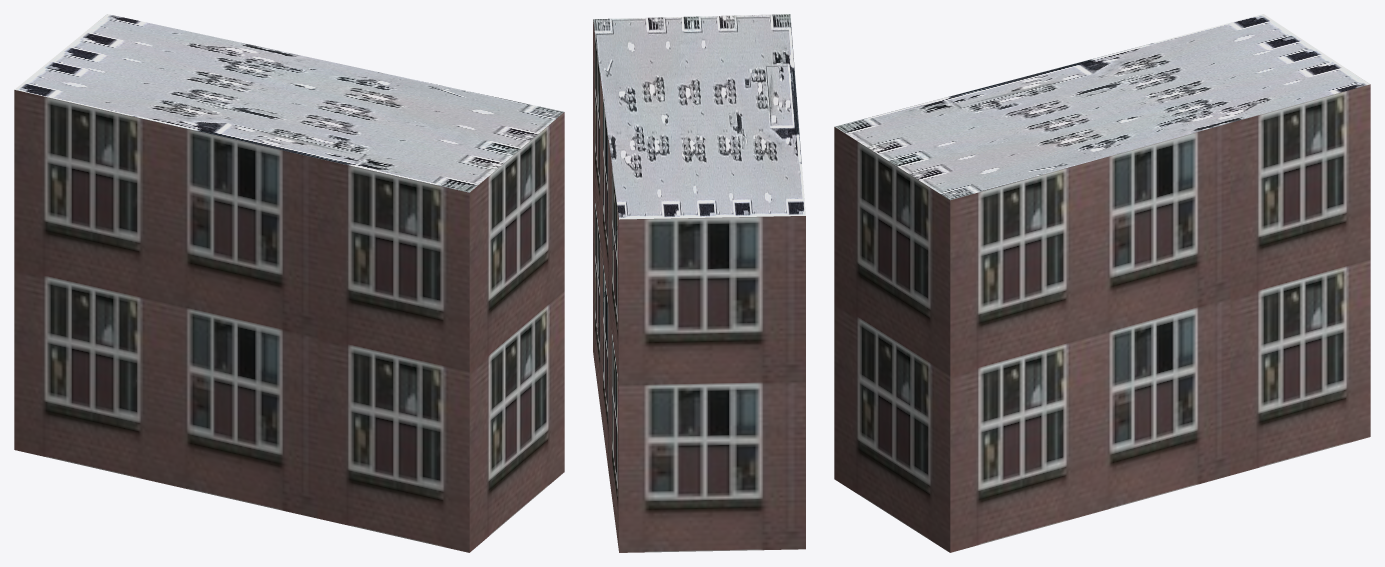
File: ResTex__1505.fbx
The picture shows the model from 3 angles, left to right: view 1: azimuth 30°, elevation 25°; view 2: azimuth 150°, elevation 25°; view 3: azimuth 270°, elevation 25°; orthographic projection. The views are drawn at different scales.
Visible parts, largest first — view 1: CityEngineMaterial_12_m, CityEngineMaterial_m; view 2: CityEngineMaterial_12_m, CityEngineMaterial_m; view 3: CityEngineMaterial_12_m, CityEngineMaterial_m.
Part boxes in pixels (bbox=[...]): CityEngineMaterial_12_m: bbox=[14, 90, 564, 552]; CityEngineMaterial_m: bbox=[14, 14, 563, 192]; CityEngineMaterial_12_m: bbox=[593, 19, 805, 552]; CityEngineMaterial_m: bbox=[593, 14, 805, 219]; CityEngineMaterial_12_m: bbox=[834, 84, 1370, 552]; CityEngineMaterial_m: bbox=[835, 14, 1369, 200].
Bounding box in the file's own units: 6.8 × 6 × 8.26.
Materials: 2 (2 with a texture image).
